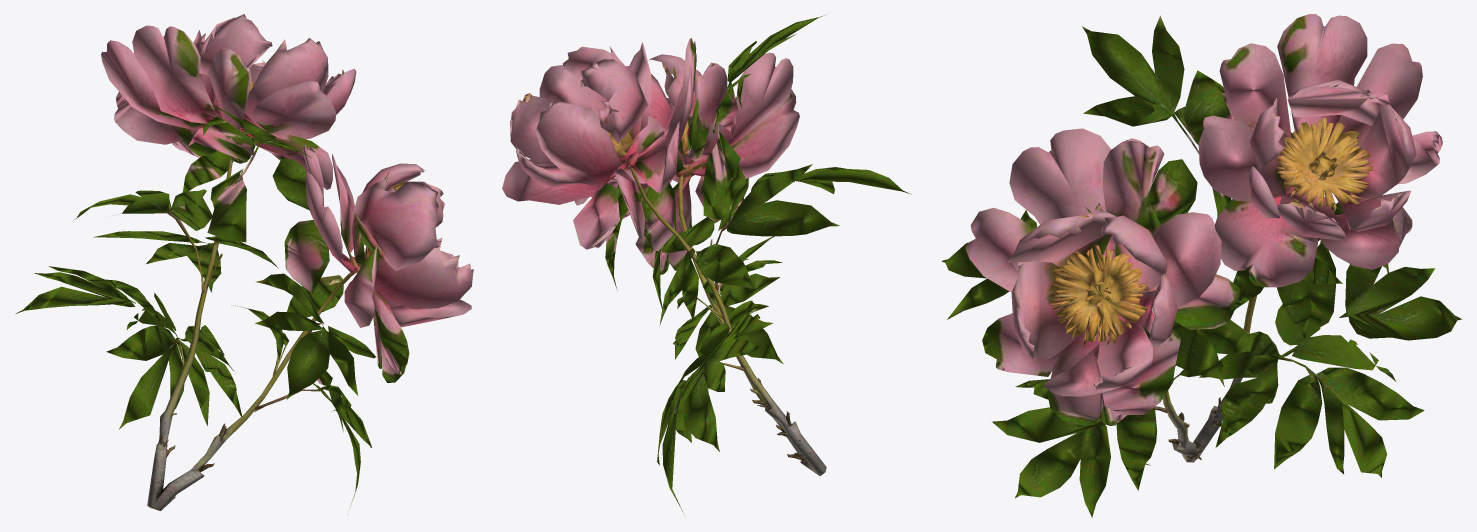
The model's file is FenSeMuDan.glb.
3 renders of one model, left to right at view 1: azimuth 30°, elevation 25°; view 2: azimuth 150°, elevation 25°; view 3: azimuth 270°, elevation 25°, orthographic. The views are drawn at different scales.
Parts seen in each view (by area): view 1: tripo_node_dfcf767b-a80b-4435-8b39-b7698e05e9de; view 2: tripo_node_dfcf767b-a80b-4435-8b39-b7698e05e9de; view 3: tripo_node_dfcf767b-a80b-4435-8b39-b7698e05e9de.
Part boxes in pixels (bbox=[...]): tripo_node_dfcf767b-a80b-4435-8b39-b7698e05e9de: bbox=[16, 14, 473, 510]; tripo_node_dfcf767b-a80b-4435-8b39-b7698e05e9de: bbox=[502, 15, 911, 515]; tripo_node_dfcf767b-a80b-4435-8b39-b7698e05e9de: bbox=[941, 14, 1461, 517].
Size of the model in its own units: 0.7912 by 0.998 by 0.9707.
1 material, 1 textured.
